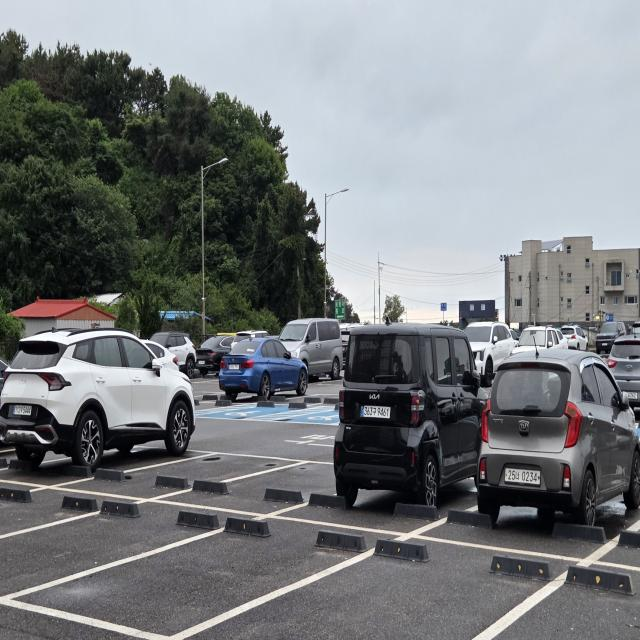car: (469, 330, 640, 557), (320, 306, 488, 530), (0, 314, 202, 496), (209, 322, 312, 407), (278, 302, 345, 385)
